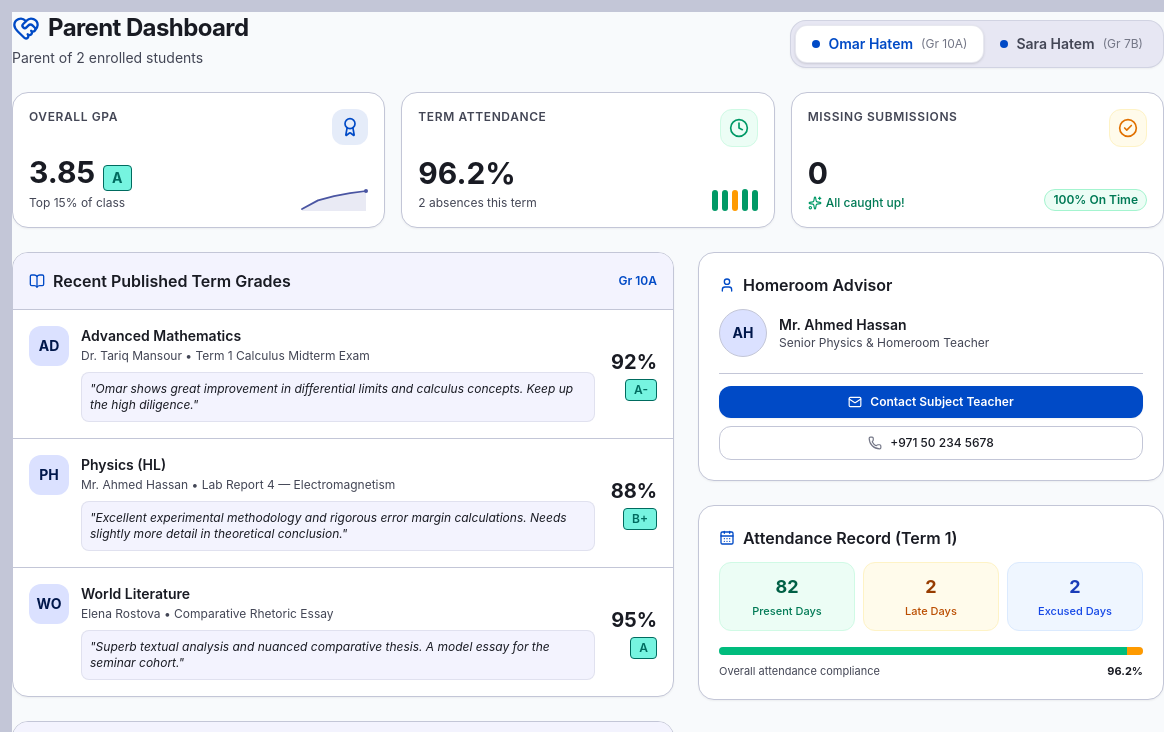
Test: ChildrenPage (Parent Monitoring Dashboard Stitch Clone) › switches child profile when segmented tab is clicked
The image size is (1164, 732).
Click the text "Sara Hatem".
click(1056, 44)  # box [1016,34,1095,54]
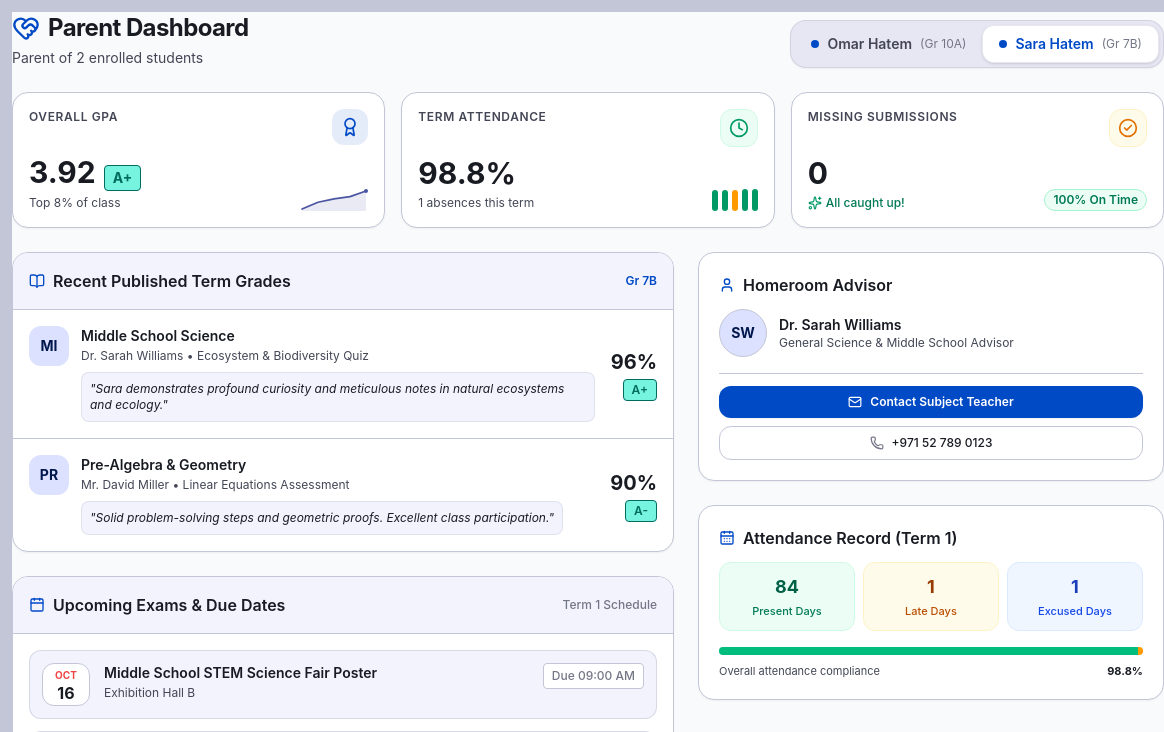
Expected: the text "3.92" is shown, [29,154,96,190]
Expected: the text "Top 8% of class" is shown, [29,195,120,210]
Expected: the heading "Middle School Science" is shown, [81,327,235,344]
